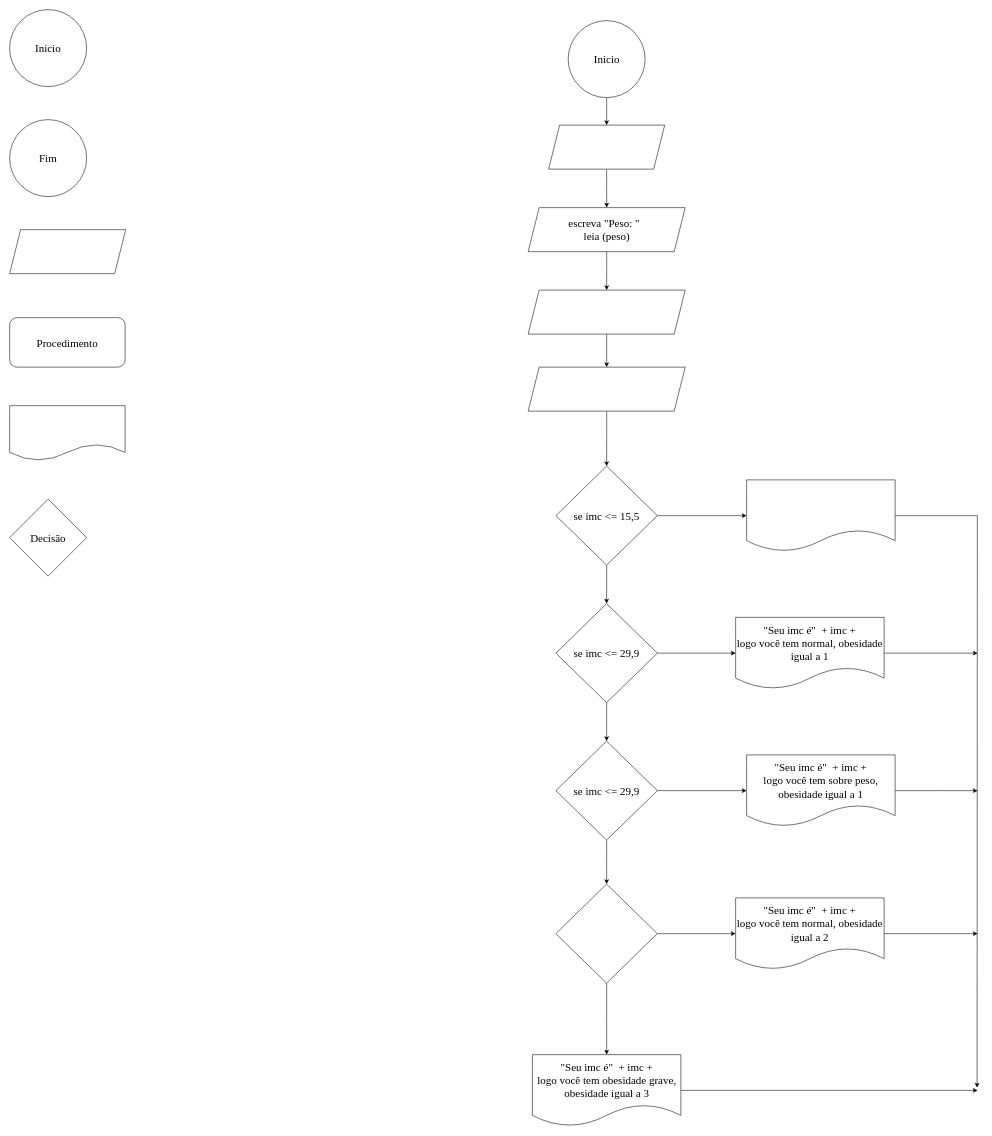
This 992x1136 diagram has some shape labels left out. Here are the shapes that lost their labels. From the top down, the centre of each, then its label:
point 606,147: real peso real altura real imc
point 67,251: Entrada de dados
point 606,312: escreva "altura " leia (peso)
point 606,389: imc = peso/(altura * altura)
point 67,433: Olá, mundo
point 820,515: "Seu imc é" + imc + logo você tem magresa, obesidade igual a 0
point 606,933: se imc <= 39,9
